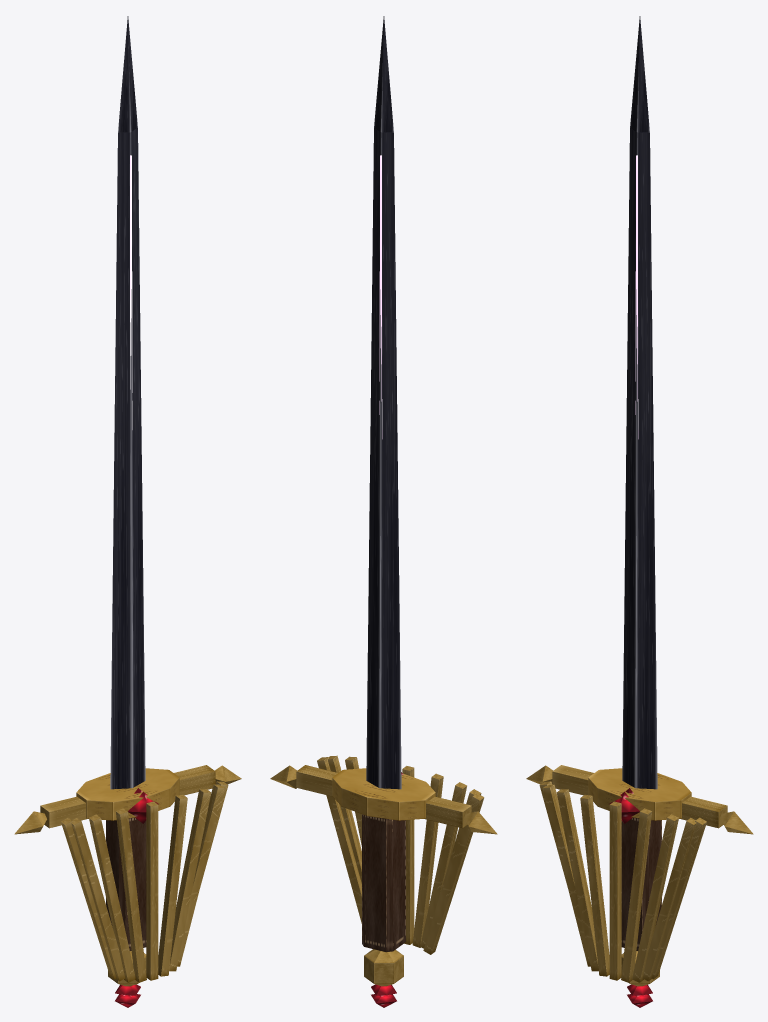
File: GildedRapier.fbx
3 renders of one model, left to right at view 1: azimuth 30°, elevation 25°; view 2: azimuth 150°, elevation 25°; view 3: azimuth 330°, elevation 25°, orthographic.
Parts seen in each view (by area): view 1: Guard, Blade, Handle, Pommel, Glow; view 2: Blade, Guard, Handle, Pommel, Glow; view 3: Guard, Blade, Handle, Pommel, Glow.
Part boxes in pixels (<box>): Guard: <box>14,765,241,982</box>; Blade: <box>110,16,145,789</box>; Handle: <box>106,817,146,950</box>; Pommel: <box>108,951,146,1007</box>; Glow: <box>130,155,132,429</box>; Blade: <box>366,16,401,789</box>; Guard: <box>270,755,497,954</box>; Handle: <box>362,814,405,952</box>; Pommel: <box>364,949,403,1007</box>; Glow: <box>379,155,382,438</box>; Guard: <box>526,765,753,982</box>; Blade: <box>622,16,657,789</box>; Handle: <box>621,817,661,950</box>; Pommel: <box>621,951,659,1007</box>; Glow: <box>635,155,638,438</box>.
Size of the model in its own units: 103 by 428 by 33.95.
2 materials, 1 textured.
